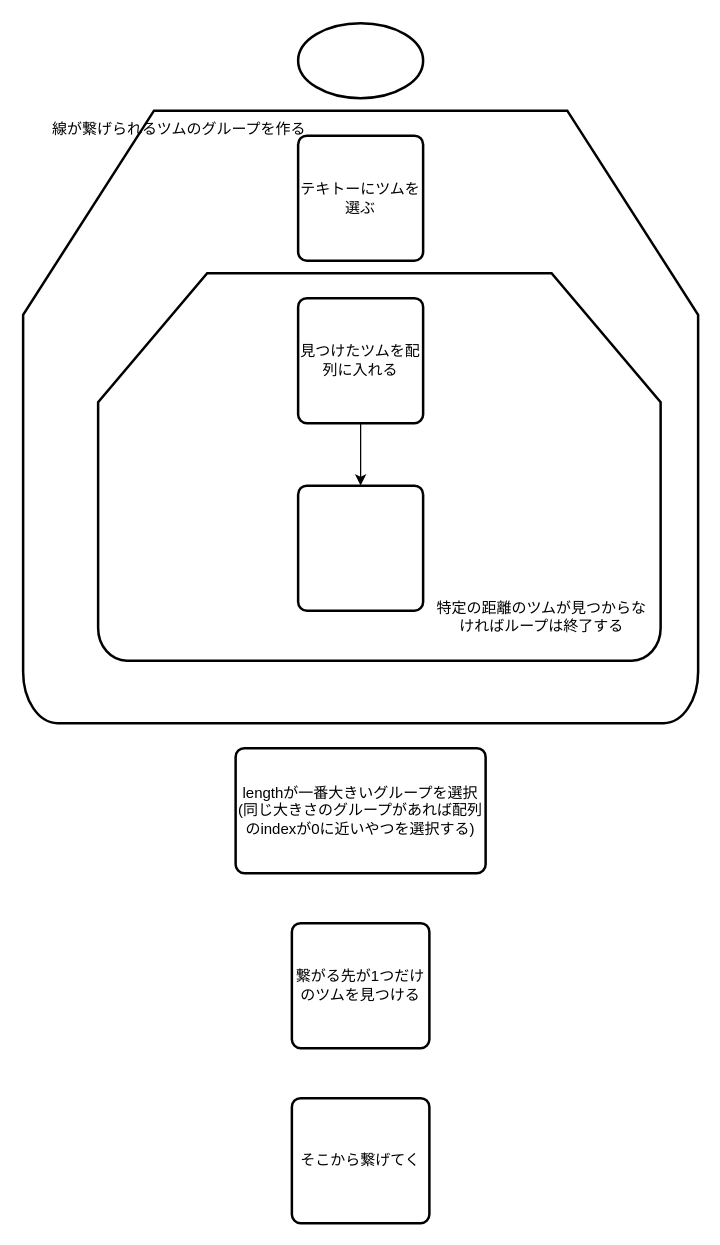
This 720x1245 diagram has some shape labels left out. Here are the shapes that lost their labels. From the top down, the centre of each, then its label:
the point at 360,60: start for
the point at 360,547: 配列に入れたやつで特定の距離のツムを取得(前プロセス)のツムは除外
